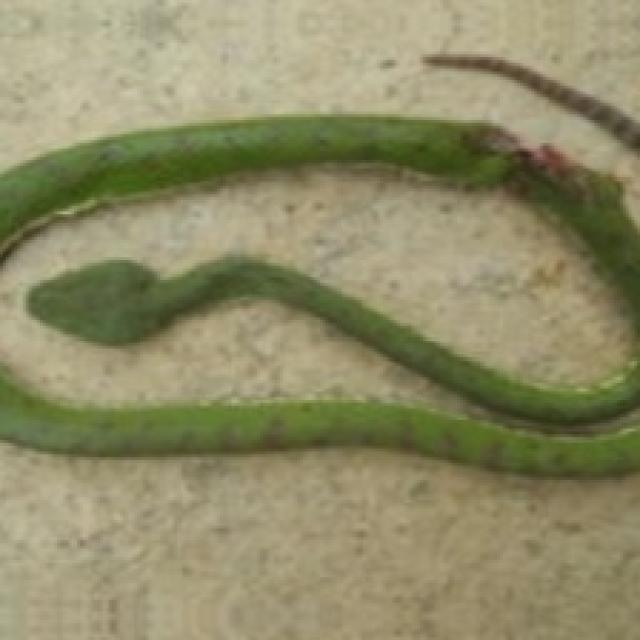philippine pitviper: (0, 114, 637, 474)
